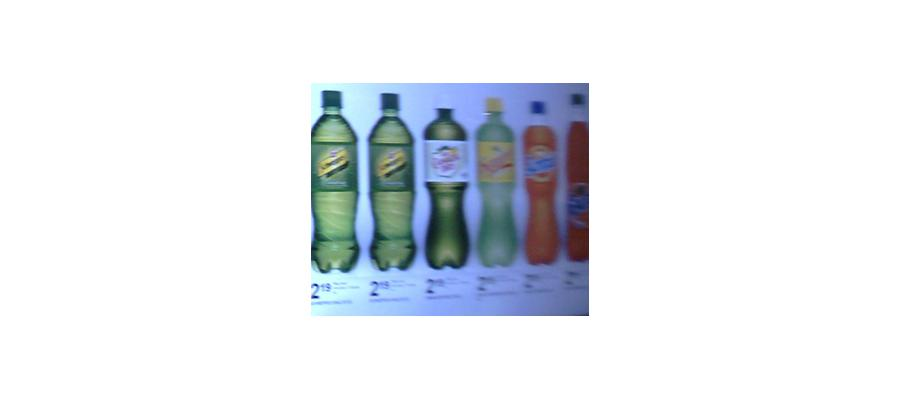bottle: (515, 101, 578, 277), (313, 90, 361, 275), (418, 105, 470, 273), (369, 95, 417, 269), (473, 92, 519, 267)
